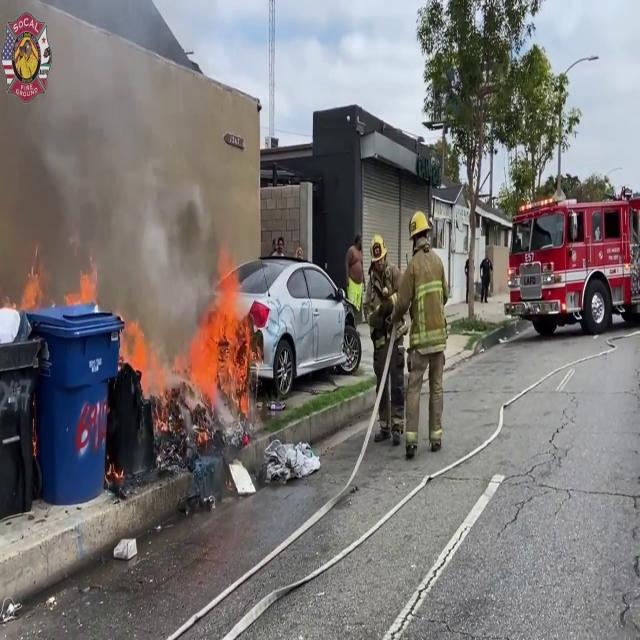Fire: (186, 256, 252, 414)
Smoke: (0, 1, 218, 306)
